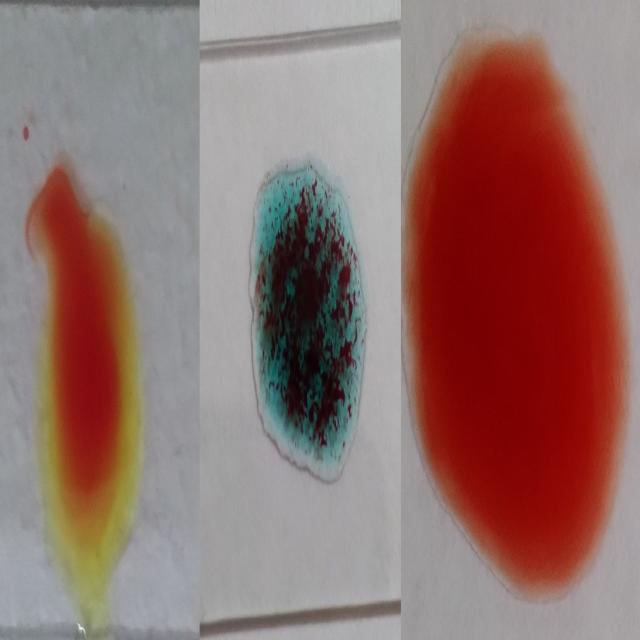A: (253, 172, 369, 481)
